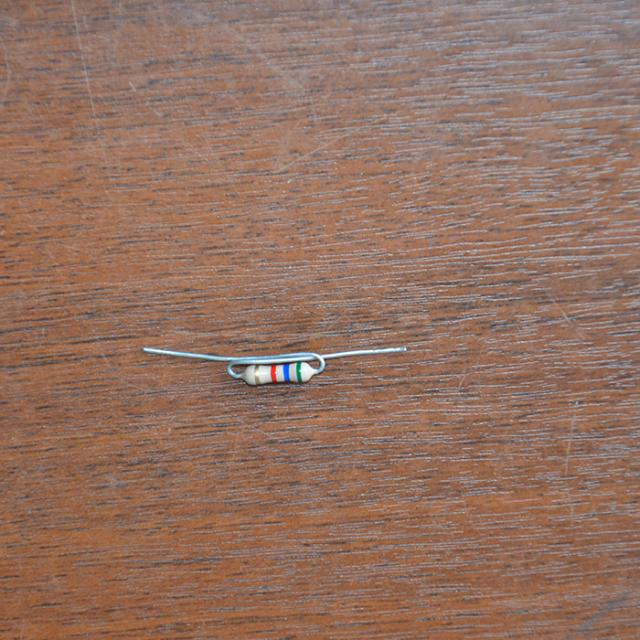blue: (283, 364, 288, 379)
gold: (253, 365, 260, 383)
green: (295, 363, 301, 381)
red: (272, 366, 276, 379)
resistor: (244, 361, 318, 391)
